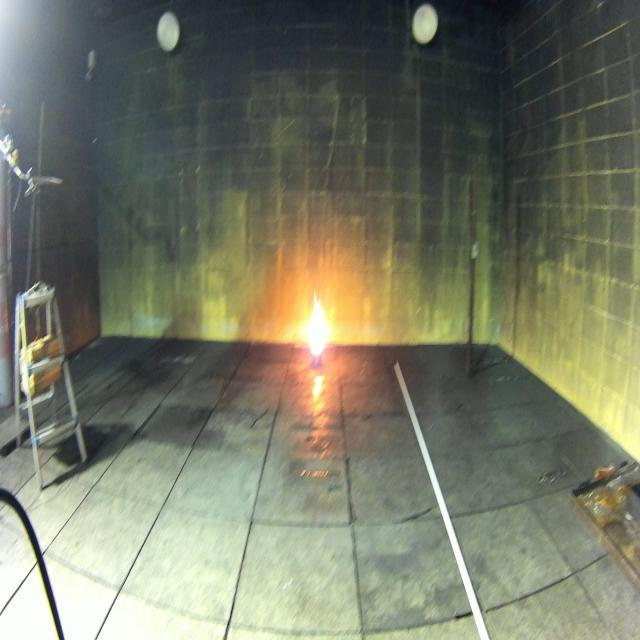Fire: (310, 286, 326, 356)
